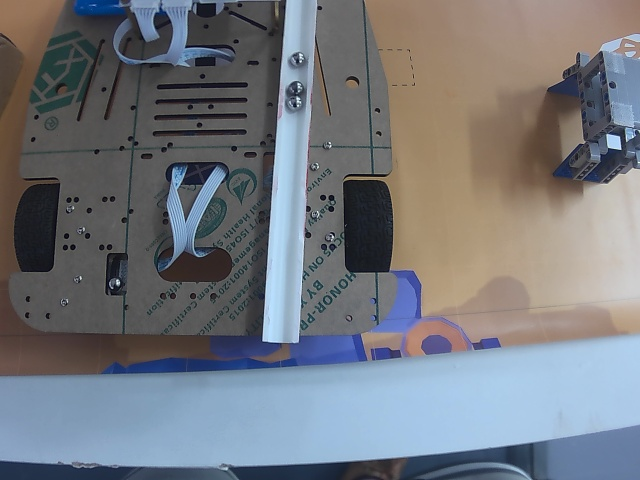steelball: (288, 52, 306, 68), (288, 81, 303, 95), (287, 96, 302, 110)
